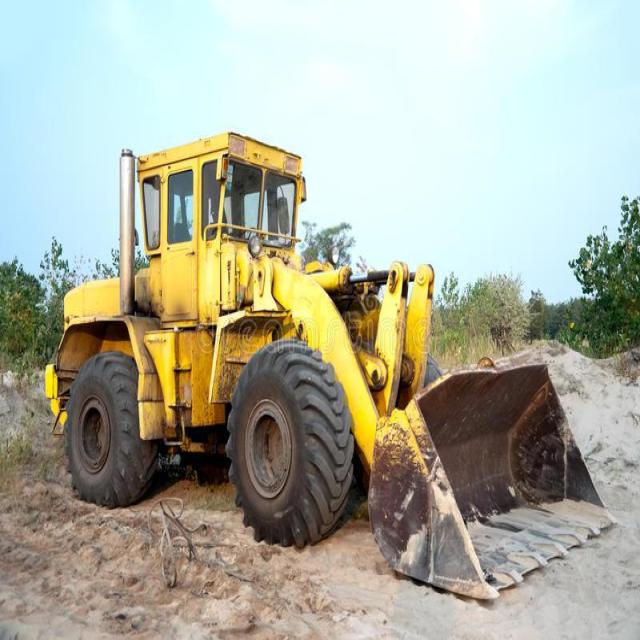pala cargadora: (42, 115, 616, 608)
